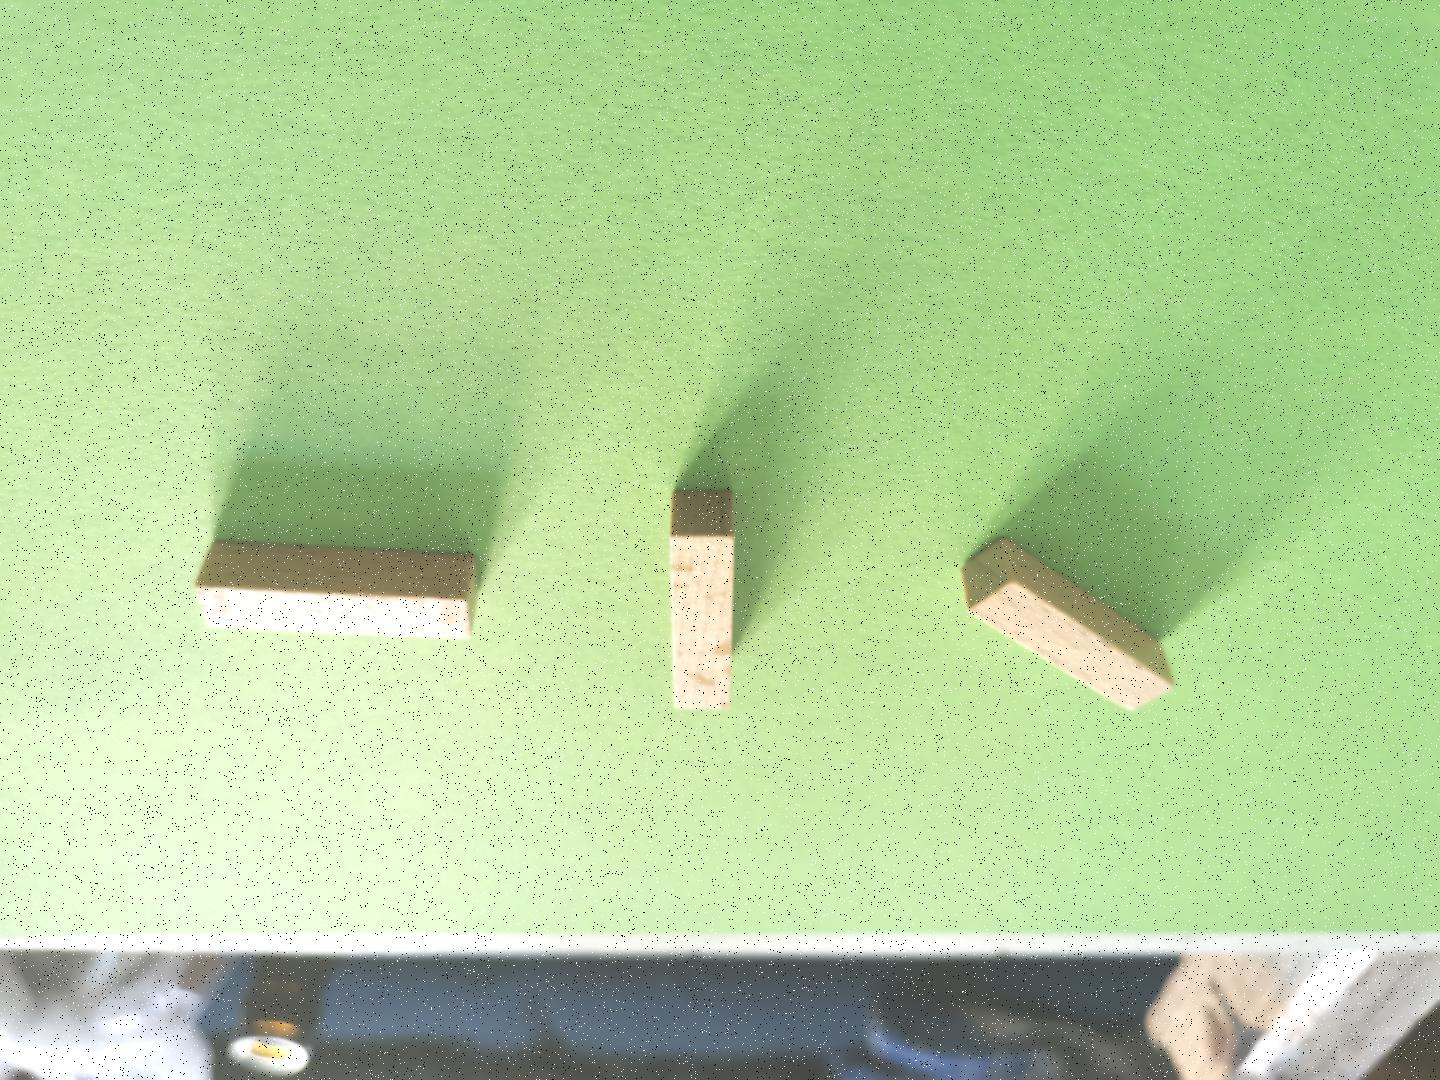jenga: (962, 538, 1172, 709), (197, 542, 478, 639), (669, 492, 734, 709)
